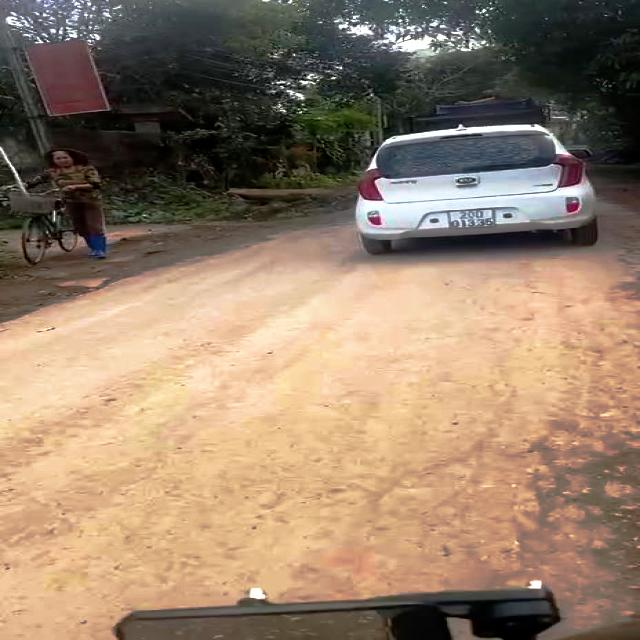pothole: (507, 432, 640, 573)
